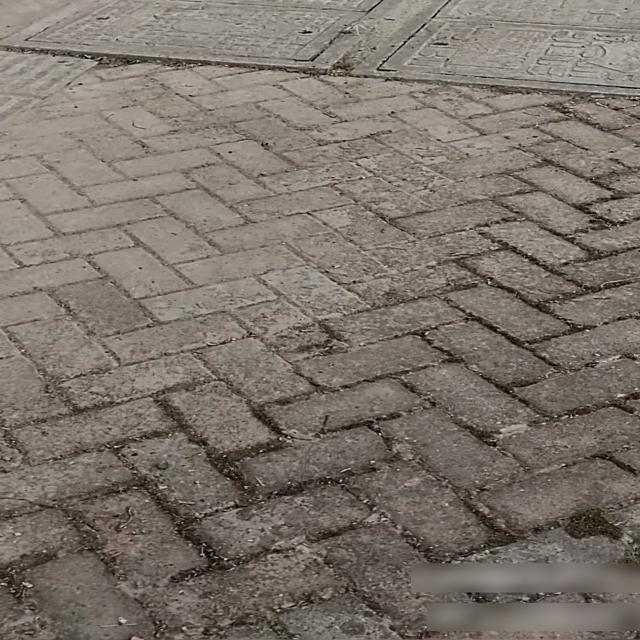good: (0, 0, 640, 106)
